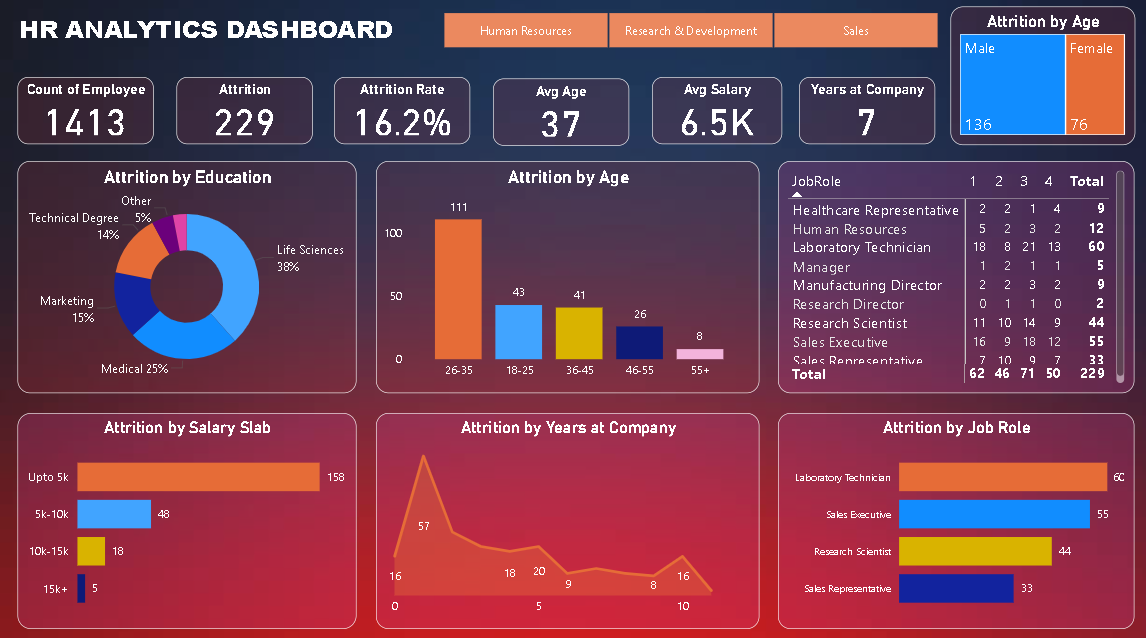

This screenshot's page, from the dashboard's own definition file:
{"tool":"powerbi","page":{"name":"HR Analytics Dashboard","canvas":[1280,720],"ordinal":0},"visuals":[{"type":"card","title":"Count of Employee","fields":{"Values":["CountNonNull(Power BI Data.EmpID)"]},"box":[22.3,90.7,151.1,74.8],"z":0},{"type":"card","title":"Attrition","fields":{"Values":["Sum(Power BI Data.AttritionCount)"]},"box":[198.8,90.7,151.1,74.8],"z":1000},{"type":"card","title":"Attrition Rate","fields":{"Values":["Power BI Data.AttritionRate"]},"box":[373.8,90.7,151.1,74.8],"z":2000},{"type":"card","title":"Avg Age","fields":{"Values":["Avg(Power BI Data.Age)"]},"box":[550.4,92.3,151.1,74.8],"z":3000},{"type":"card","title":"Avg Salary","fields":{"Values":["Avg(Power BI Data.MonthlyIncome)"]},"box":[726.9,90.7,144.7,74.8],"z":4000},{"type":"card","title":"Years at Company","fields":{"Values":["Avg(Power BI Data.YearsAtCompany)"]},"box":[890.7,90.7,151.1,74.8],"z":5000},{"type":"donutChart","title":"Attrition by Education","fields":{"Category":["Power BI Data.EducationField"],"Y":["Sum(Power BI Data.AttritionCount)"]},"box":[22.3,182.9,377,257.7],"z":6000},{"type":"columnChart","title":"Attrition by Age","fields":{"Category":["Power BI Data.AgeGroup"],"Y":["Sum(Power BI Data.AttritionCount)"]},"box":[419.9,182.9,426.3,257.7],"z":7000},{"type":"pivotTable","title":"Job Satisfaction","fields":{"Rows":["Power BI Data.JobRole"],"Columns":["Power BI Data.JobSatisfaction"],"Values":["Sum(Power BI Data.AttritionCount)"]},"box":[866.9,182.9,396.1,257.7],"z":8000},{"type":"barChart","title":"Attrition by Salary Slab","fields":{"Category":["Power BI Data.SalarySlab"],"Y":["Sum(Power BI Data.AttritionCount)"]},"box":[22.3,462.9,377,240.2],"z":9000},{"type":"barChart","title":"Attrition by Job Role","fields":{"Y":["Sum(Power BI Data.AttritionCount)"],"Category":["Power BI Data.JobRole"]},"box":[866.9,462.9,396.1,240.2],"z":10000},{"type":"stackedAreaChart","title":"Attrition by Years at Company","fields":{"Category":["Power BI Data.YearsAtCompany"],"Y":["Sum(Power BI Data.AttritionCount)"]},"box":[419.9,462.9,426.3,240.2],"z":11000},{"type":"treemap","title":"Attrition by Age","fields":{"Group":["Power BI Data.Gender"],"Values":["Sum(Power BI Data.AttritionCount)"]},"box":[1057.8,11.1,205.2,154.3],"z":12000},{"type":"slicer","fields":{"Values":["Power BI Data.Department"]},"box":[470.8,11.1,598.1,52.5],"z":13000},{"type":"textbox","box":[11.1,11.1,439,52.5],"z":14000}]}

Visuals, with their boxes in screenshot pixels (x1, y1, x2, y2), scaled from the page's 1280x720 canvas onto the 1146x638 screenshot:
"Count of Employee" card: 20:80:155:147
"Attrition" card: 178:80:313:147
"Attrition Rate" card: 335:80:470:147
"Avg Age" card: 493:82:628:148
"Avg Salary" card: 651:80:780:147
"Years at Company" card: 797:80:933:147
"Attrition by Education" donutChart: 20:162:357:390
"Attrition by Age" columnChart: 376:162:758:390
"Job Satisfaction" pivotTable: 776:162:1131:390
"Attrition by Salary Slab" barChart: 20:410:357:623
"Attrition by Job Role" barChart: 776:410:1131:623
"Attrition by Years at Company" stackedAreaChart: 376:410:758:623
"Attrition by Age" treemap: 947:10:1131:147
slicer - Power BI Data.Department: 422:10:957:56
textbox: 10:10:403:56
